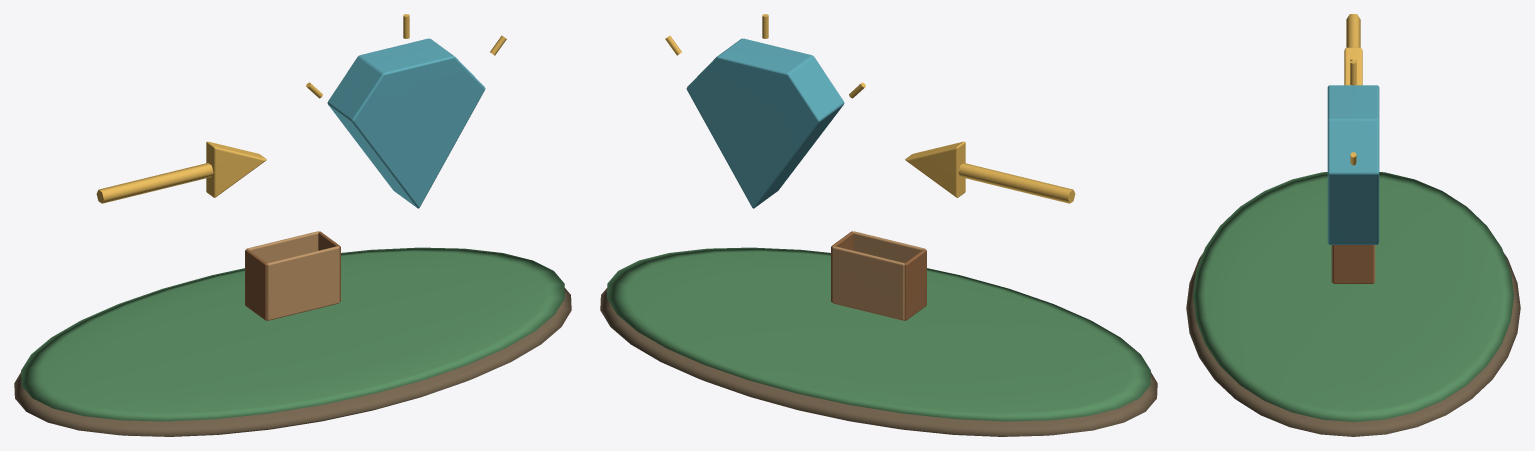
The model's file is complete-first-sent-out-appears.glb.
The picture shows the model from 3 angles, left to right: view 1: azimuth 30°, elevation 25°; view 2: azimuth 150°, elevation 25°; view 3: azimuth 270°, elevation 25°; orthographic projection.
Parts seen in each view (by area): view 1: complete-first-sent-out-appears_surface_01, complete-first-sent-out-appears_surface_03, complete-first-sent-out-appears_surface_00, complete-first-sent-out-appears_surface_04, complete-first-sent-out-appears_surface_02, complete-first-sent-out-appears_surface_05; view 2: complete-first-sent-out-appears_surface_01, complete-first-sent-out-appears_surface_03, complete-first-sent-out-appears_surface_00, complete-first-sent-out-appears_surface_04, complete-first-sent-out-appears_surface_02, complete-first-sent-out-appears_surface_05; view 3: complete-first-sent-out-appears_surface_01, complete-first-sent-out-appears_surface_03, complete-first-sent-out-appears_surface_00, complete-first-sent-out-appears_surface_05, complete-first-sent-out-appears_surface_02.
Part boxes in pixels (x1,y1,x2,y2): complete-first-sent-out-appears_surface_01: (21,247,564,421); complete-first-sent-out-appears_surface_03: (327,38,485,208); complete-first-sent-out-appears_surface_00: (14,288,571,436); complete-first-sent-out-appears_surface_04: (247,231,339,320); complete-first-sent-out-appears_surface_02: (96,14,506,203); complete-first-sent-out-appears_surface_05: (245,231,340,320); complete-first-sent-out-appears_surface_01: (607,247,1150,421); complete-first-sent-out-appears_surface_03: (686,38,844,208); complete-first-sent-out-appears_surface_00: (600,288,1157,436); complete-first-sent-out-appears_surface_04: (832,231,924,320); complete-first-sent-out-appears_surface_02: (665,14,1075,203); complete-first-sent-out-appears_surface_05: (831,231,926,320); complete-first-sent-out-appears_surface_01: (1193,172,1513,421); complete-first-sent-out-appears_surface_03: (1327,85,1379,244); complete-first-sent-out-appears_surface_00: (1186,253,1520,436); complete-first-sent-out-appears_surface_05: (1332,245,1374,283); complete-first-sent-out-appears_surface_02: (1344,14,1362,165).
Size of the model in its own units: 4.56 by 2.61 by 2.5.
